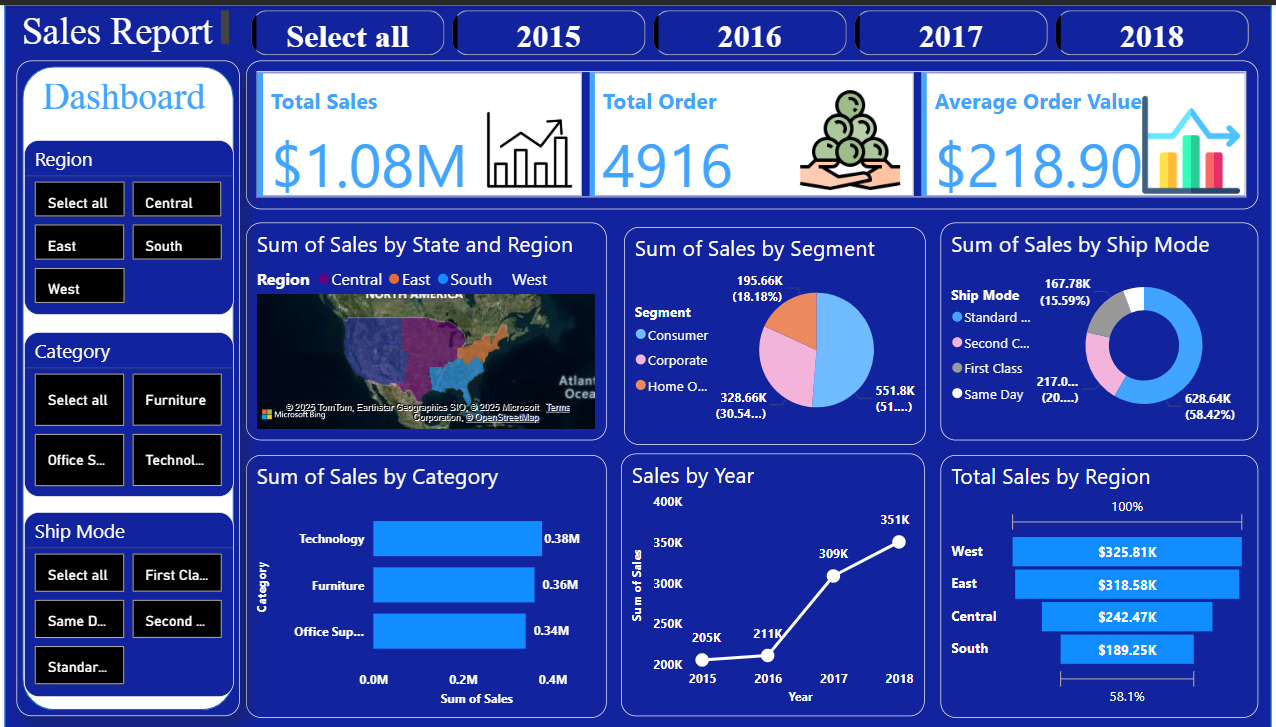

The page's visual inventory and layout, read from the dashboard file:
{"tool":"powerbi","page":{"name":"Page 1","canvas":[1280,720],"ordinal":0},"visuals":[{"type":"shape","box":[10,0,1260,720],"z":0},{"type":"lineChart","title":" Sales by Year","fields":{"Category":["cleaned_train.Order Date.Variation.Date Hierarchy.Year","cleaned_train.Order Date.Variation.Date Hierarchy.Quarter","cleaned_train.Order Date.Variation.Date Hierarchy.Month","cleaned_train.Order Date.Variation.Date Hierarchy.Day"],"Y":["Sum(cleaned_train.Sales)"]},"box":[623.8,445.6,301.8,261.3],"z":1000},{"type":"filledMap","fields":{"Category":["cleaned_train.State","cleaned_train.Postal Code"],"Series":["cleaned_train.Region"]},"box":[251.1,216.7,358.5,216.7],"z":2000},{"type":"barChart","fields":{"Category":["cleaned_train.Category"],"Y":["Sum(cleaned_train.Sales)"]},"box":[251.1,447.6,358.5,261.3],"z":3000},{"type":"pieChart","fields":{"Category":["cleaned_train.Segment"],"Y":["Sum(cleaned_train.Sales)"]},"box":[625.8,220.8,299.7,216.7],"z":4000},{"type":"donutChart","fields":{"Category":["cleaned_train.Ship Mode"],"Y":["Sum(cleaned_train.Sales)"]},"box":[941.8,216.7,315.9,216.7],"z":5000},{"type":"cardVisual","fields":{"Data":["cleaned_train.Total Sales","cleaned_train.Numbers of Orders","cleaned_train.Average Order Value"]},"box":[250.6,55.2,1006.9,147.7],"z":6000},{"type":"image","box":[456.5,85,152.2,117.8],"z":7000},{"type":"image","box":[777.2,76.1,149.2,116.4],"z":8000},{"type":"image","box":[1135.2,85,110.4,107.4],"z":9000},{"type":"textbox","box":[22.4,0,216.3,55.2],"z":11000},{"type":"shape","box":[22.3,54.7,222,652.2],"z":12000},{"type":"textbox","box":[38.5,72.9,180.3,54.7],"z":13000},{"type":"advancedSlicerVisual","fields":{"Values":["cleaned_train.Region"]},"box":[30.4,133.7,208.6,174.2],"z":14000},{"type":"advancedSlicerVisual","fields":{"Values":["cleaned_train.Category"]},"box":[29.8,325.2,208.8,164.1],"z":15000},{"type":"advancedSlicerVisual","fields":{"Values":["cleaned_train.Ship Mode"]},"box":[30.4,504.3,208.6,184.3],"z":16000},{"type":"advancedSlicerVisual","fields":{"Values":["cleaned_train.Ship Date.Variation.Date Hierarchy.Year"]},"box":[250.6,0,1006.9,55.2],"z":17000},{"type":"funnel","fields":{"Y":["cleaned_train.Total Sales"],"Category":["cleaned_train.Region"]},"box":[941.8,447.6,315.9,261.3],"z":18000}]}

Visuals, with their boxes in screenshot pixels (x1, y1, x2, y2), scaled from the page's 1280x720 canvas onto the 1276x727 screenshot:
shape: region(10, 0, 1266, 726)
" Sales by Year" lineChart: region(622, 450, 923, 714)
filledMap - cleaned_train.State x cleaned_train.Postal Code: region(250, 219, 608, 438)
barChart - cleaned_train.Category x Sum(cleaned_train.Sales): region(250, 452, 608, 716)
pieChart - cleaned_train.Segment x Sum(cleaned_train.Sales): region(624, 223, 923, 442)
donutChart - cleaned_train.Ship Mode x Sum(cleaned_train.Sales): region(939, 219, 1254, 438)
cardVisual - cleaned_train.Total Sales x cleaned_train.Numbers of Orders: region(250, 56, 1254, 205)
image: region(455, 86, 607, 205)
image: region(775, 77, 924, 194)
image: region(1132, 86, 1242, 194)
textbox: region(22, 0, 238, 56)
shape: region(22, 55, 244, 714)
textbox: region(38, 74, 218, 129)
advancedSlicerVisual - cleaned_train.Region: region(30, 135, 238, 311)
advancedSlicerVisual - cleaned_train.Category: region(30, 328, 238, 494)
advancedSlicerVisual - cleaned_train.Ship Mode: region(30, 509, 238, 695)
advancedSlicerVisual - cleaned_train.Ship Date.Variation.Date Hierarchy.Year: region(250, 0, 1254, 56)
funnel - cleaned_train.Total Sales x cleaned_train.Region: region(939, 452, 1254, 716)
